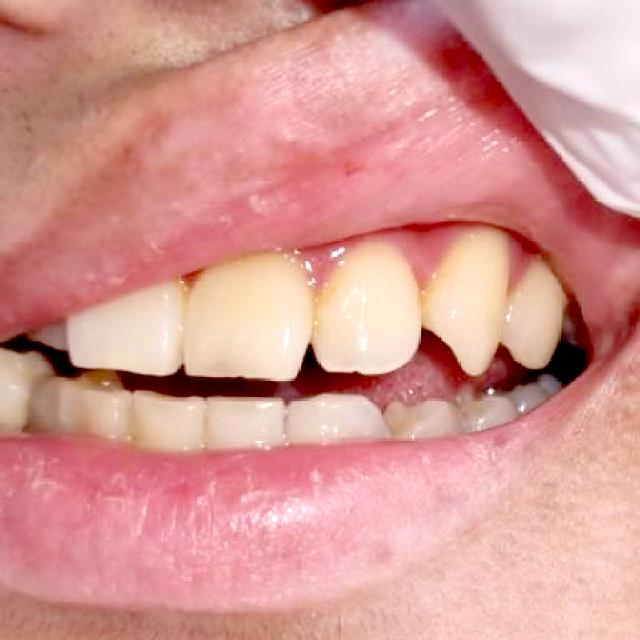Plaque: (299, 223, 471, 298), (509, 236, 536, 294)
